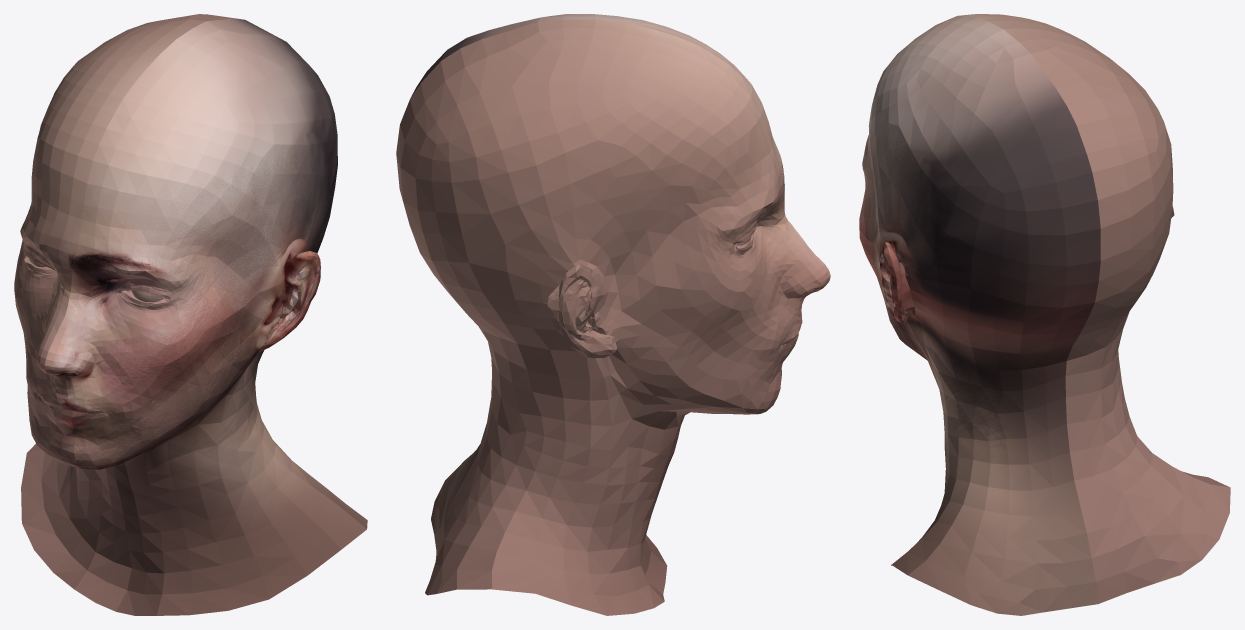
File: bald_mirror.obj
The picture shows the model from 3 angles, left to right: view 1: azimuth 30°, elevation 25°; view 2: azimuth 150°, elevation 25°; view 3: azimuth 270°, elevation 25°; orthographic projection. The views are drawn at different scales.
Bounding box in the file's own units: 0.2121 × 0.3229 × 0.2003.
1 material, 1 textured.
